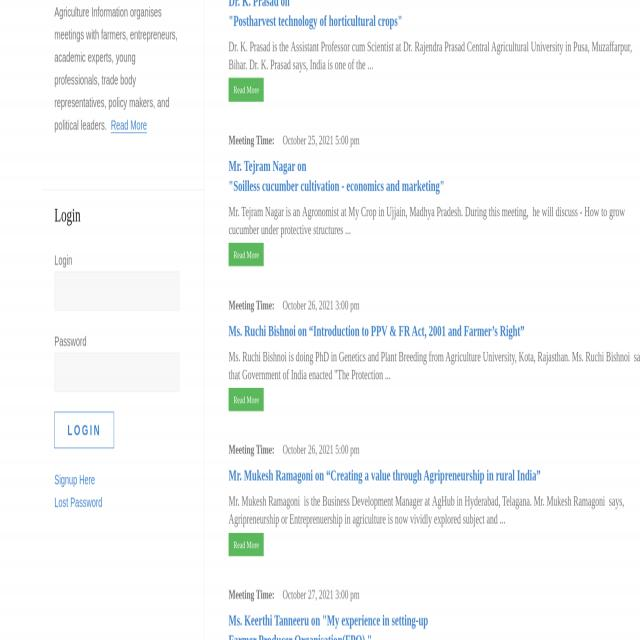button: (54, 412, 114, 449), (228, 78, 264, 102), (228, 243, 264, 266), (228, 388, 264, 411), (228, 533, 264, 556)
field: (54, 271, 180, 311), (54, 353, 180, 392)
